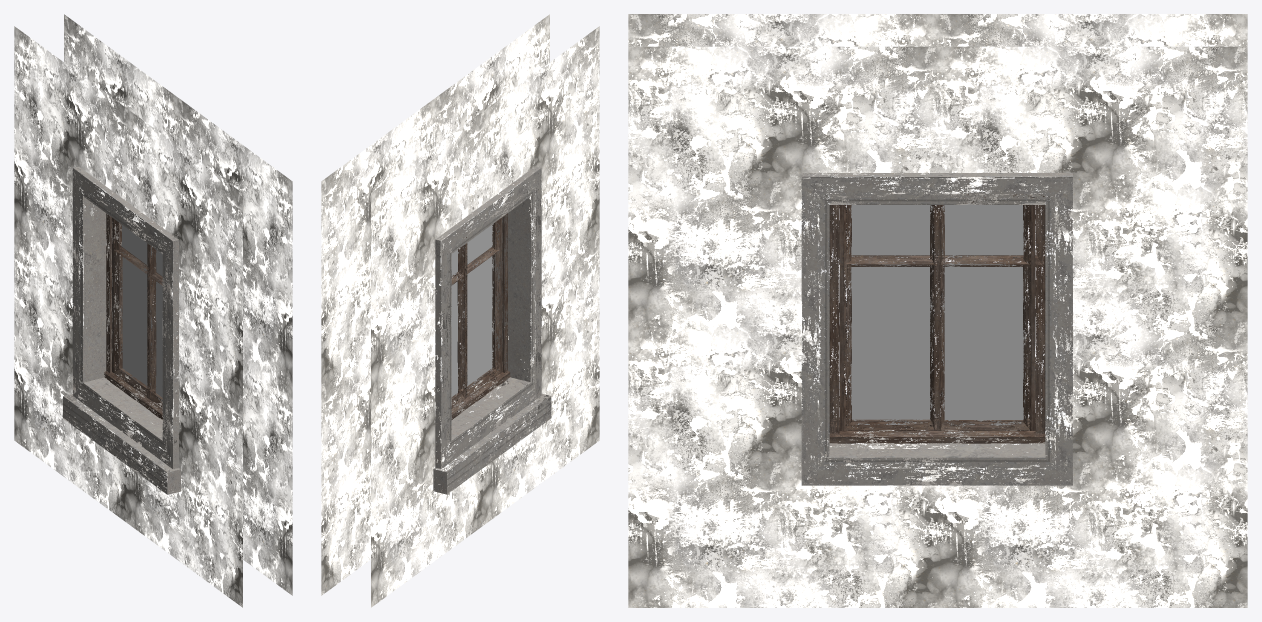
Rendered from SM_wall_A_window_4x4_05_01.fbx.
3 views of the same model, side by side, from view 1: azimuth 30°, elevation 25°; view 2: azimuth 150°, elevation 25°; view 3: azimuth 270°, elevation 25° (orthographic). The views are drawn at different scales.
Parts seen in each view (by area): view 1: SM_wall_A_window_4x4_05_01_LOD0; view 2: SM_wall_A_window_4x4_05_01_LOD0; view 3: SM_wall_A_window_4x4_05_01_LOD0.
Part boxes in pixels (x1,y1,x2,y2): SM_wall_A_window_4x4_05_01_LOD0: (14,14,292,607); SM_wall_A_window_4x4_05_01_LOD0: (321,14,599,607); SM_wall_A_window_4x4_05_01_LOD0: (628,14,1247,607).
Bounding box in the file's own units: 69.88 × 400 × 400.
Materials: 5 (4 with a texture image).
